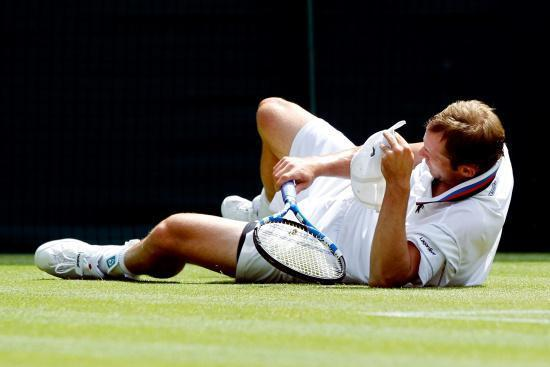Fall-Detected: (29, 78, 520, 286)
